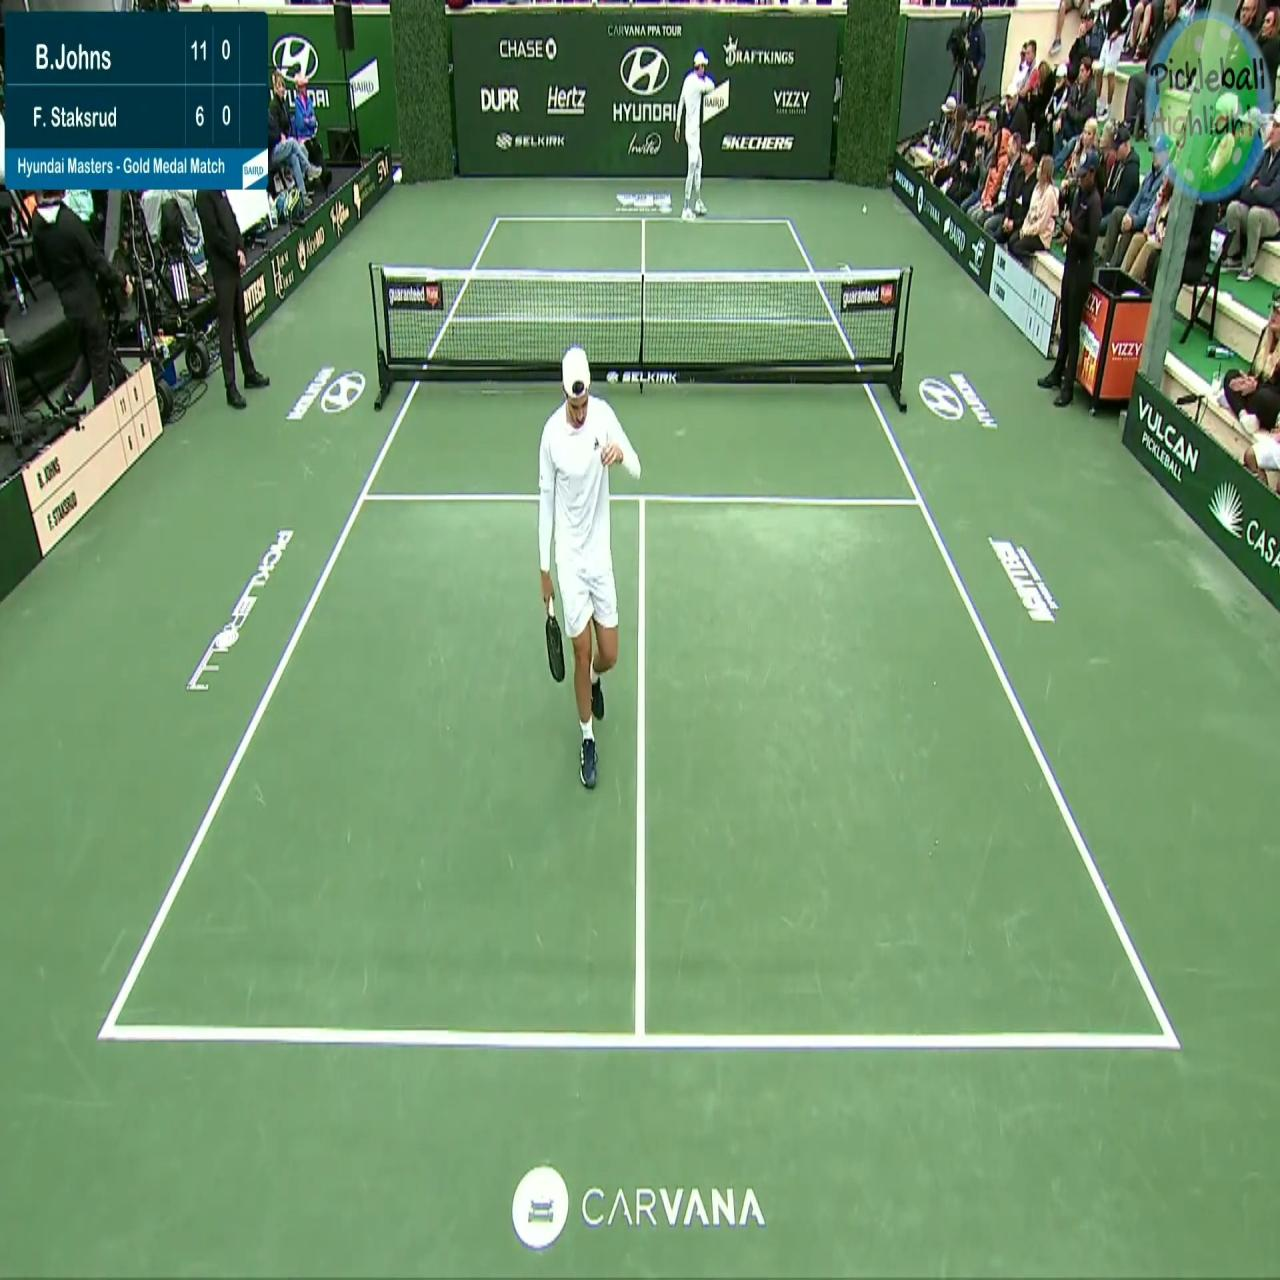pickleball: (862, 205, 867, 213)
